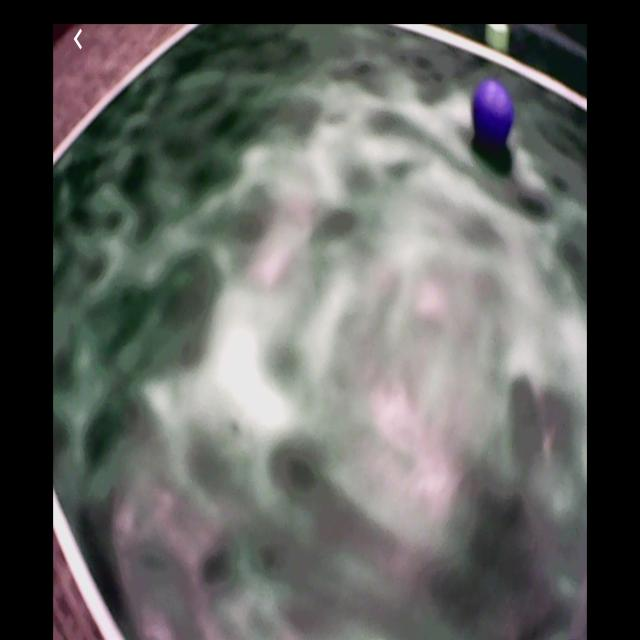ball: (474, 83, 511, 150)
